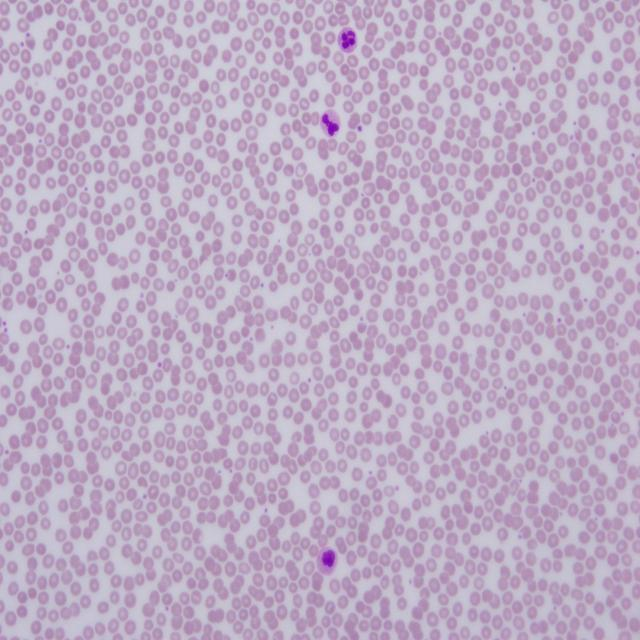cell: (321, 110, 340, 137)
